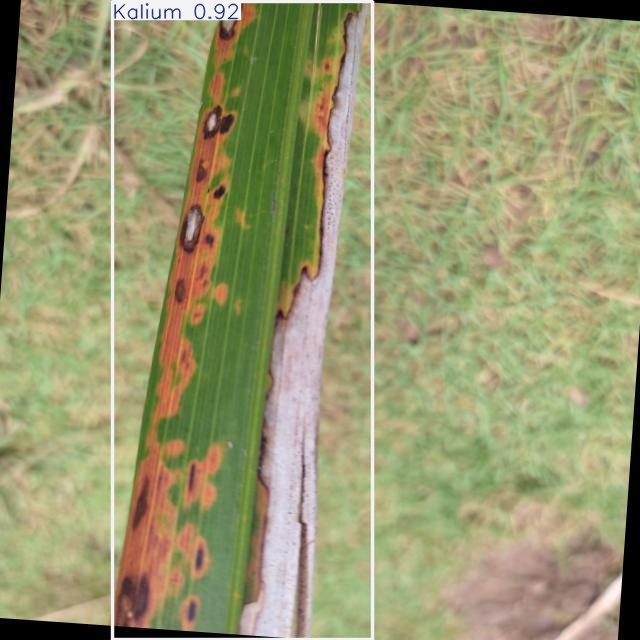Kalium: (112, 2, 372, 640)
